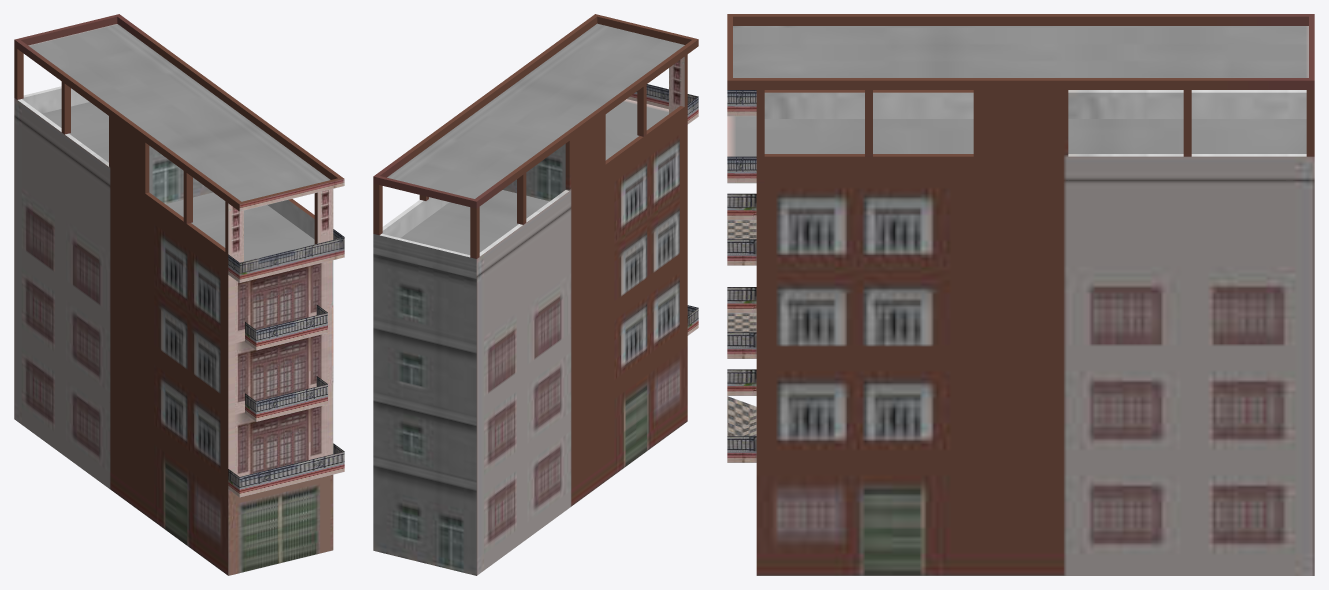
3 views of the same model, side by side, from view 1: azimuth 30°, elevation 25°; view 2: azimuth 150°, elevation 25°; view 3: azimuth 270°, elevation 25° (orthographic). The views are drawn at different scales.
Visible parts, largest first — view 1: 5da92b4529255d11bc13eb3e.001; view 2: 5da92b4529255d11bc13eb3e.001; view 3: 5da92b4529255d11bc13eb3e.001.
Part boxes in pixels (x1,y1,x2,y2): 5da92b4529255d11bc13eb3e.001: [14, 14, 344, 575]; 5da92b4529255d11bc13eb3e.001: [373, 14, 698, 575]; 5da92b4529255d11bc13eb3e.001: [727, 14, 1314, 575].
Size of the model in its own units: 5.38 by 18.6 by 20.
1 material, 1 textured.
